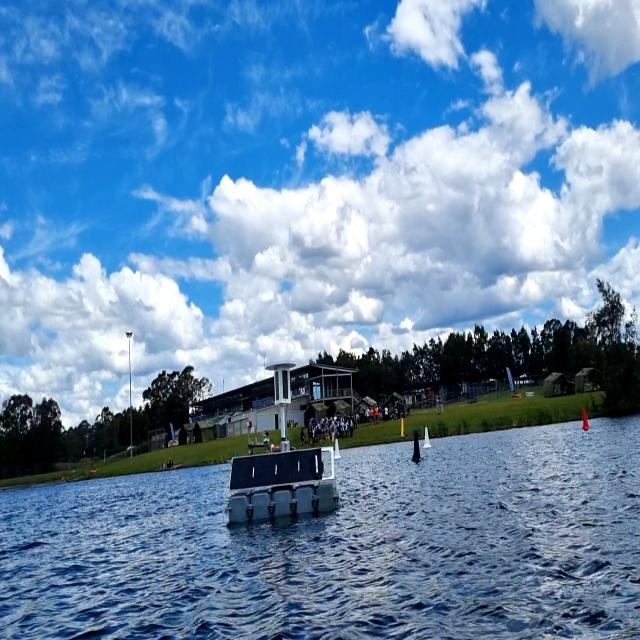led: (280, 367, 290, 402), (275, 370, 280, 401)
